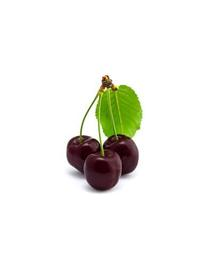cherry: (84, 151, 121, 192), (106, 132, 140, 175), (66, 136, 101, 172)
